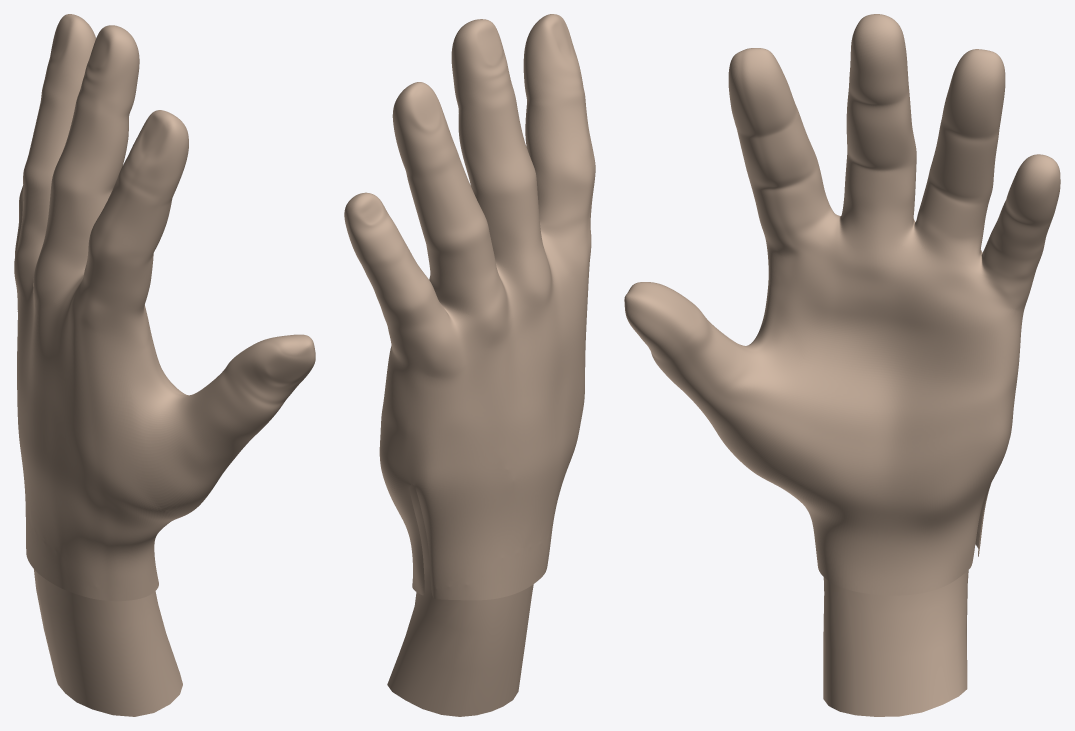
Rendered from LOV 5.glb.
3 views of the same model, side by side, from view 1: azimuth 30°, elevation 25°; view 2: azimuth 150°, elevation 25°; view 3: azimuth 270°, elevation 25° (orthographic).
Parts seen in each view (by area): view 1: gloves, hand; view 2: gloves, hand; view 3: gloves, hand.
Boxes of the visible parts, x1,y1,x2,y2 form: gloves: (14,14,315,601); hand: (34,569,182,716); gloves: (344,14,595,600); hand: (387,484,533,716); gloves: (624,14,1060,595); hand: (823,570,968,716).
Bounding box in the file's own units: 0.648 × 2.59 × 1.51.
